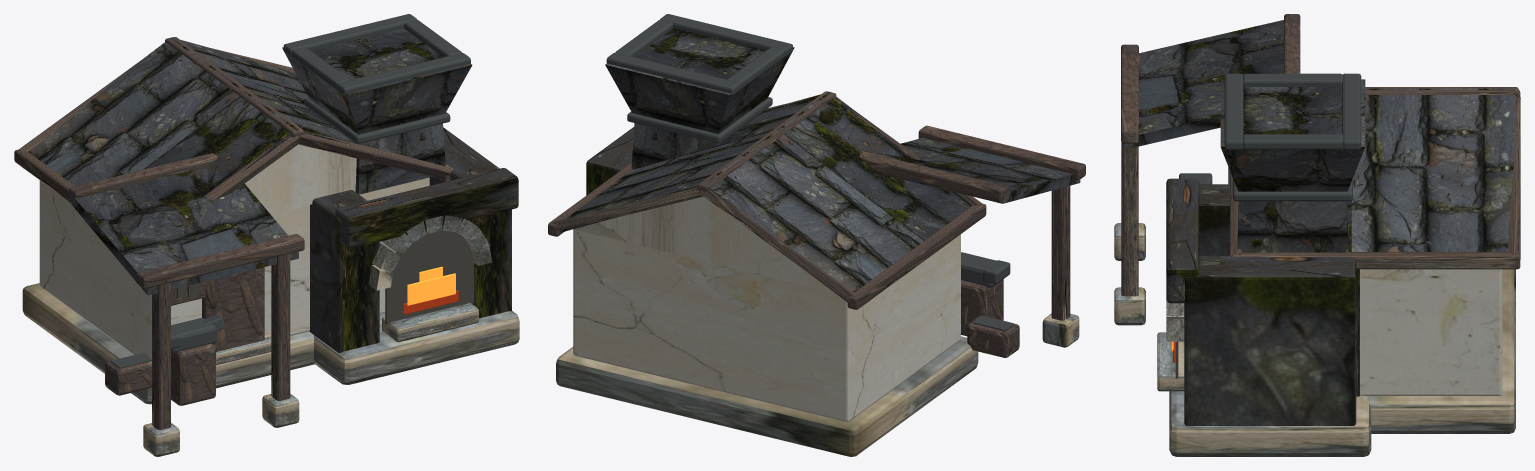
File: barrosan_iron_forge_b01_r2.glb
3 renders of one model, left to right at view 1: azimuth 30°, elevation 25°; view 2: azimuth 150°, elevation 25°; view 3: azimuth 270°, elevation 25°, orthographic. The views are drawn at different scales.
Parts seen in each view (by area): view 1: B01_Slate, B01_DarkStone, B01_Timber, B01_Stone, B01_Limewash, B01_Iron, B01_Ash, B01_Ember, B01_Coal; view 2: B01_Limewash, B01_Slate, B01_Timber, B01_Stone, B01_DarkStone, B01_Iron; view 3: B01_DarkStone, B01_Slate, B01_Stone, B01_Limewash, B01_Timber, B01_Iron.
Boxes of the visible parts, x1,y1,x2,y2 form: B01_Slate: [28, 37, 355, 295]; B01_DarkStone: [282, 28, 518, 352]; B01_Timber: [14, 37, 453, 429]; B01_Stone: [22, 215, 519, 456]; B01_Limewash: [39, 144, 429, 357]; B01_Iron: [110, 14, 470, 368]; B01_Ash: [176, 230, 473, 324]; B01_Ember: [407, 266, 455, 305]; B01_Coal: [403, 290, 458, 314]; B01_Limewash: [573, 196, 960, 421]; B01_Slate: [559, 92, 1080, 302]; B01_Timber: [548, 91, 1085, 357]; B01_Stone: [556, 313, 1079, 456]; B01_DarkStone: [586, 28, 794, 195]; B01_Iron: [606, 14, 1013, 330]; B01_DarkStone: [1166, 79, 1365, 425]; B01_Slate: [1124, 20, 1515, 251]; B01_Stone: [1114, 223, 1515, 456]; B01_Limewash: [1360, 269, 1502, 395]; B01_Timber: [1121, 14, 1520, 296]; B01_Iron: [1179, 73, 1361, 201].
Size of the model in its own units: 6.78 by 4.46 by 5.39.
8 materials, 4 textured.
